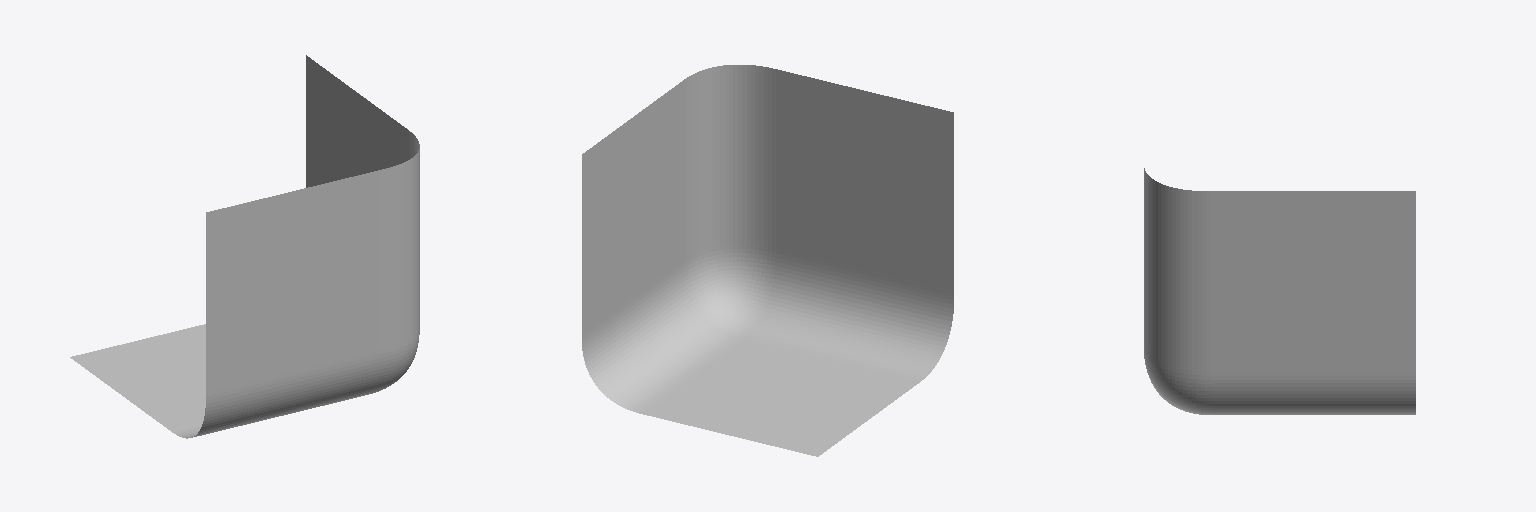
Rendered from showroom.obj.
The picture shows the model from 3 angles: view 1: azimuth 30°, elevation 25°; view 2: azimuth 150°, elevation 25°; view 3: azimuth 270°, elevation 25°; orthographic projection.
Visible parts, largest first — view 1: Plane; view 2: Plane; view 3: Plane.
Part boxes in pixels (left/top/right/bottom): Plane: left=70, top=55, right=419, bottom=438; Plane: left=582, top=65, right=953, bottom=456; Plane: left=1144, top=168, right=1415, bottom=414.
Size of the model in its own units: 2 by 1.98 by 2.